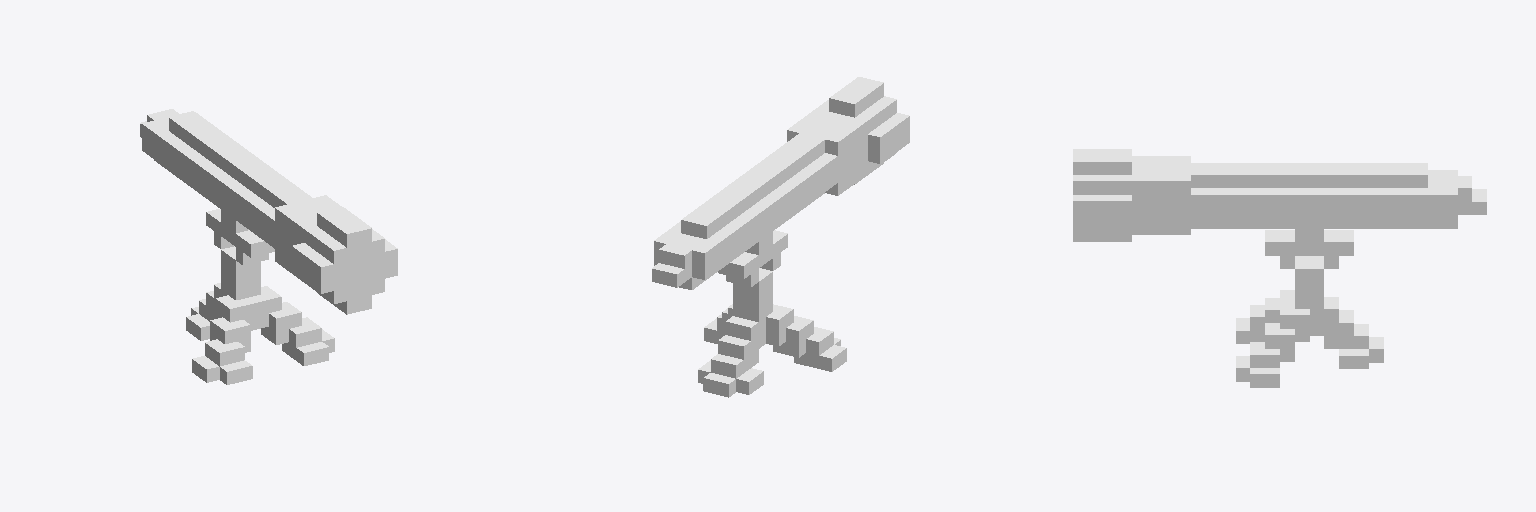
File: MainThings_Vox-5.obj
The picture shows the model from 3 angles: view 1: azimuth 30°, elevation 25°; view 2: azimuth 150°, elevation 25°; view 3: azimuth 270°, elevation 25°; orthographic projection.
Parts seen in each view (by area): view 1: object 1; view 2: object 1; view 3: object 1.
Boxes of the visible parts, x1=… form: object 1: x1=140, y1=109, x2=397, y2=384; object 1: x1=652, y1=77, x2=909, y2=397; object 1: x1=1073, y1=149, x2=1486, y2=387.
Bounding box in the file's own units: 1 × 1.5 × 2.8.